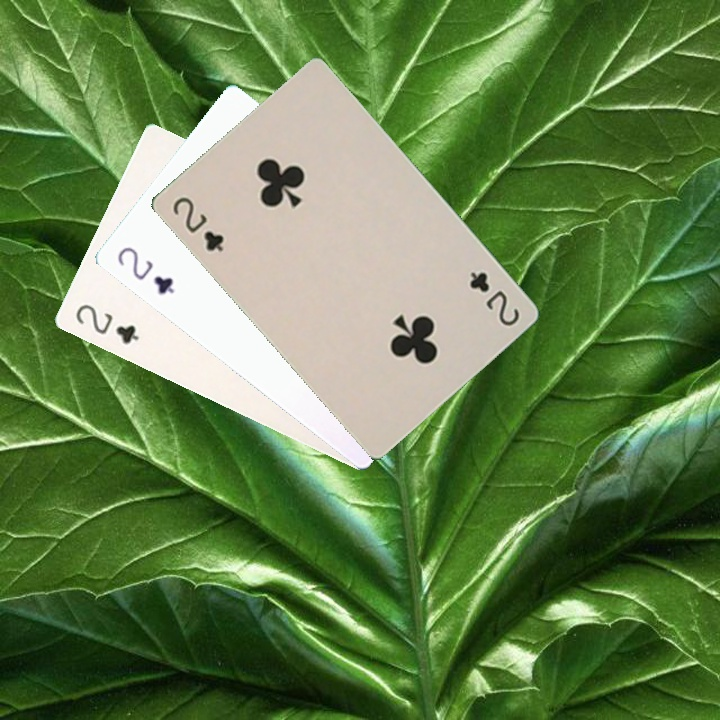2c: (168, 192, 227, 255), (113, 242, 177, 298), (465, 267, 522, 329), (71, 299, 142, 347)
